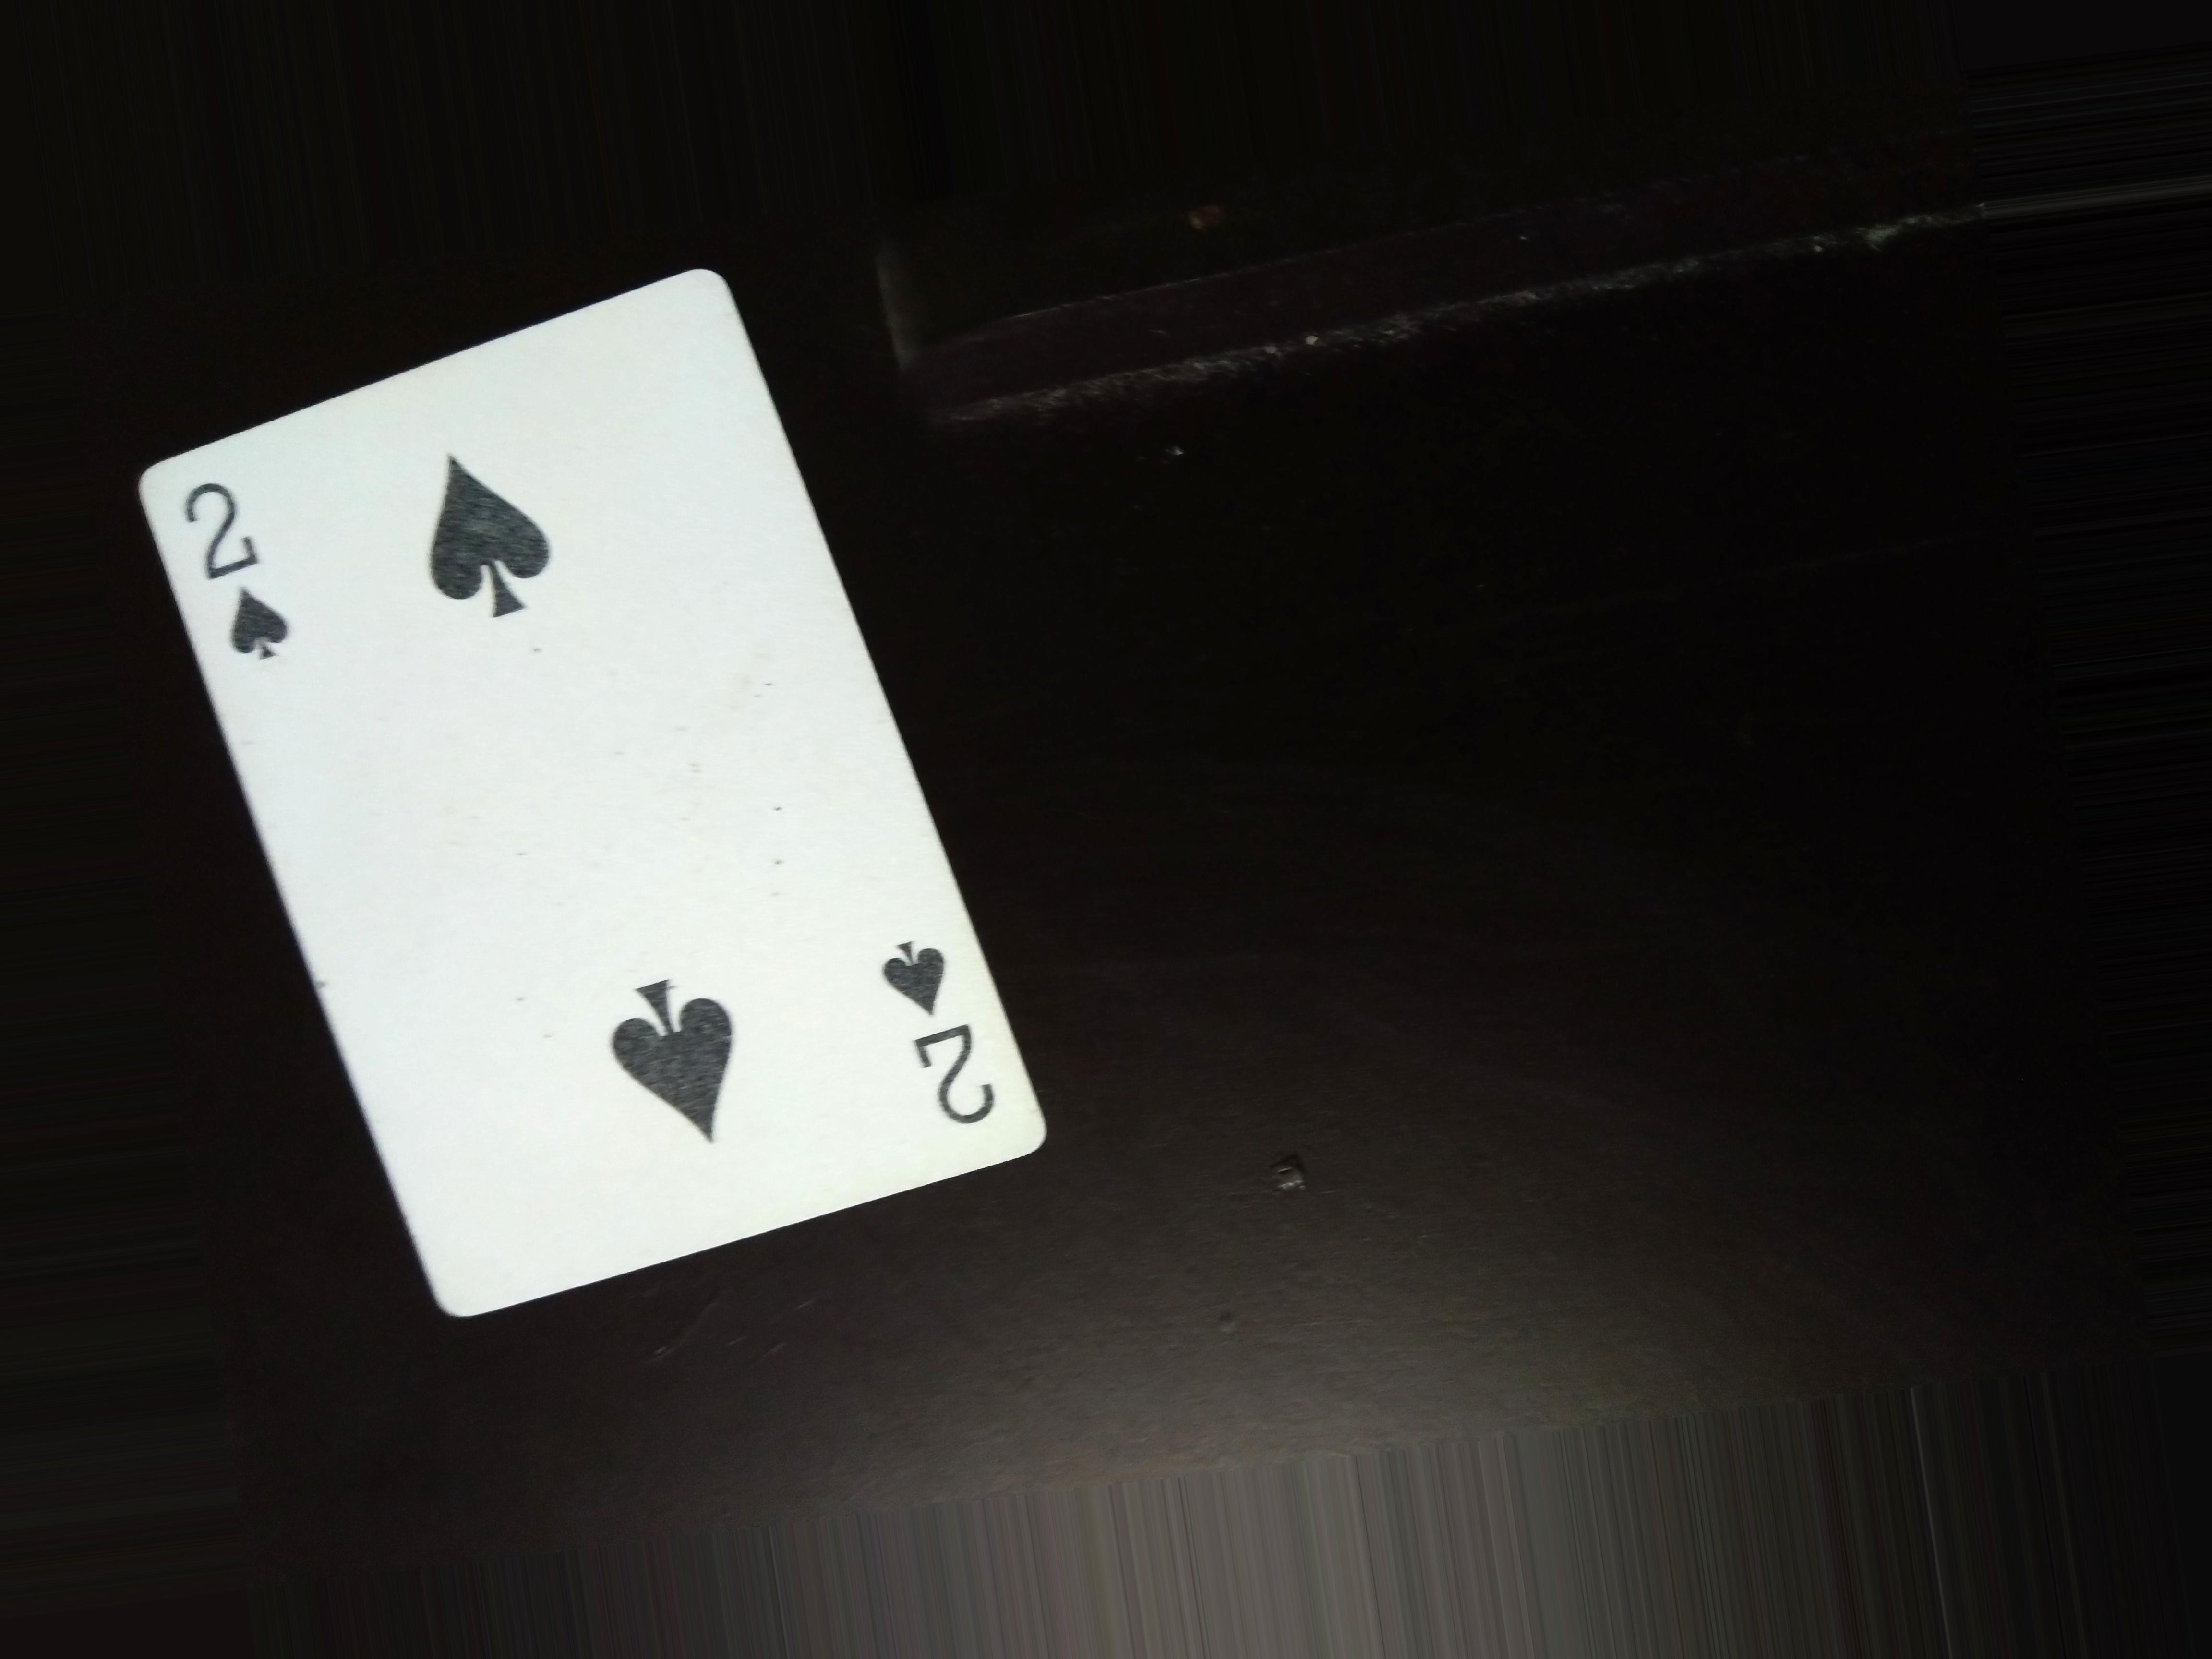2S: (157, 474, 334, 683)
